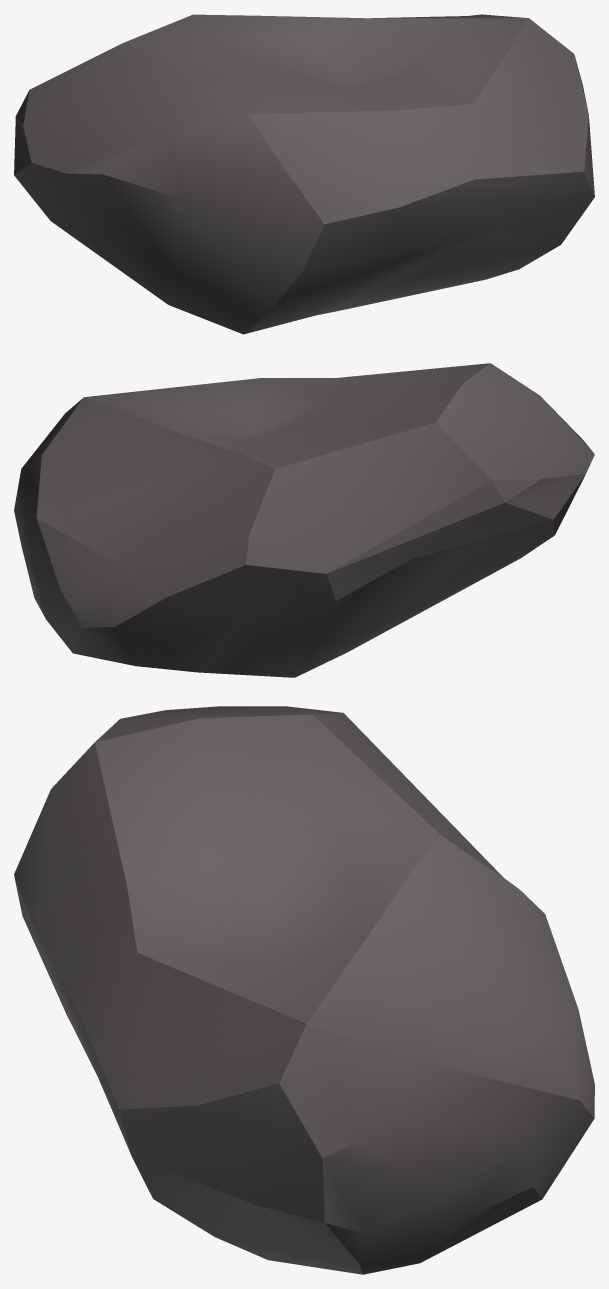
The model's file is Rocks05.fbx.
3 renders of one model, top to bottom at view 1: azimuth 30°, elevation 25°; view 2: azimuth 150°, elevation 25°; view 3: azimuth 270°, elevation 25°, orthographic. The views are drawn at different scales.
Visible parts, largest first — view 1: Rock.005; view 2: Rock.005; view 3: Rock.005.
Boxes of the visible parts, box(x1,y1,x2,y2) form: Rock.005: box(14, 14, 594, 334); Rock.005: box(14, 363, 594, 677); Rock.005: box(14, 706, 594, 1274).
Size of the model in its own units: 1.87 by 0.9405 by 1.36.
